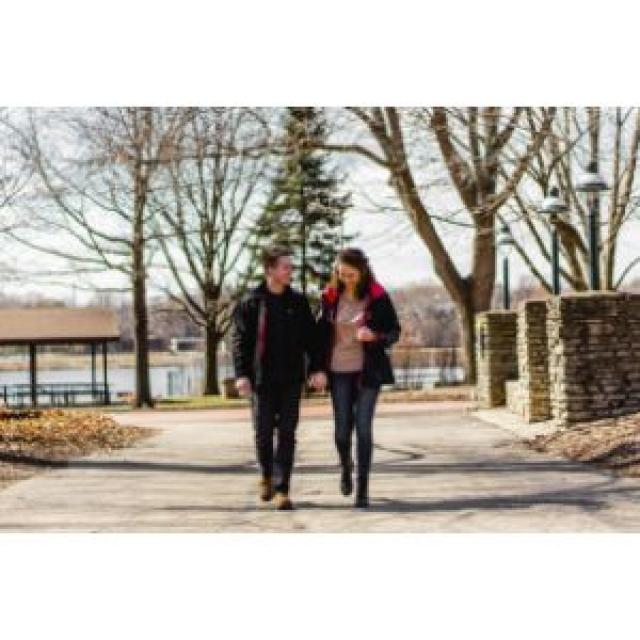nonfall: (215, 222, 321, 493), (318, 231, 402, 508)
